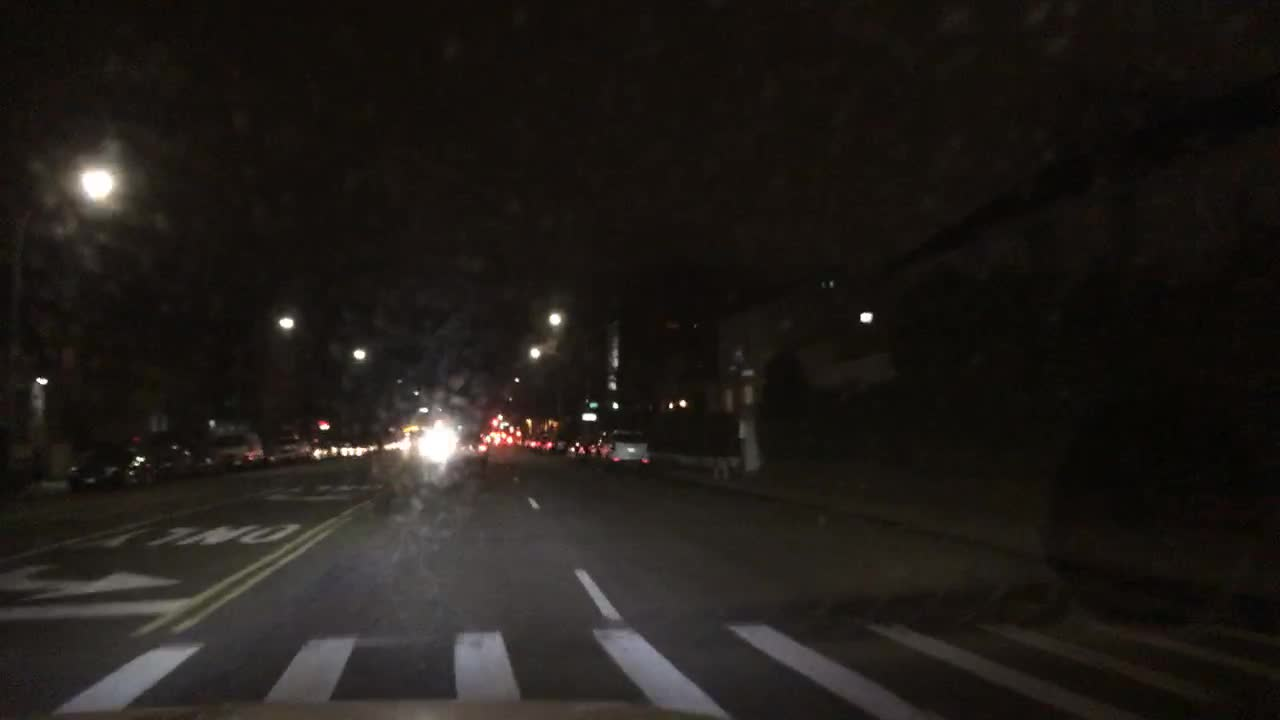car: (62, 439, 159, 490), (129, 432, 194, 481), (212, 429, 264, 470), (446, 426, 491, 471), (607, 429, 651, 469), (268, 431, 314, 466), (187, 435, 222, 475), (413, 427, 449, 460), (384, 431, 411, 457), (309, 436, 329, 465), (547, 431, 568, 456), (491, 429, 515, 449), (324, 436, 343, 457), (593, 431, 606, 461), (341, 436, 361, 455), (568, 436, 585, 456), (536, 431, 557, 447), (526, 432, 539, 451), (582, 439, 596, 456), (363, 436, 378, 451), (514, 431, 526, 447)
